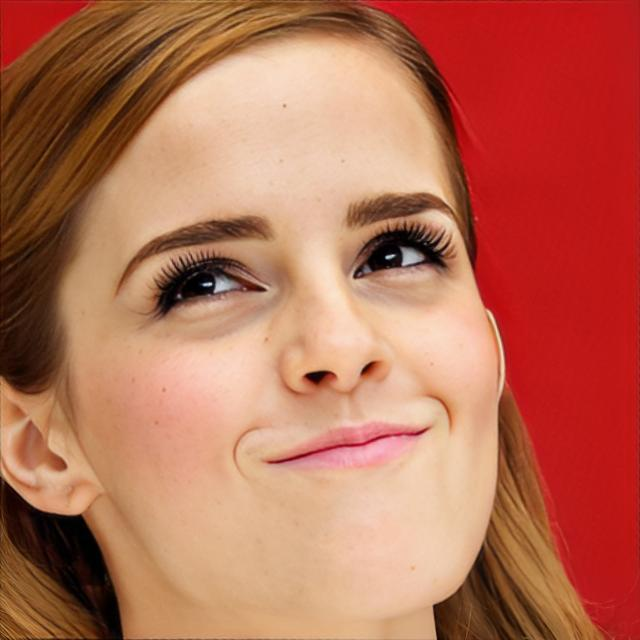content: (64, 24, 501, 622)
